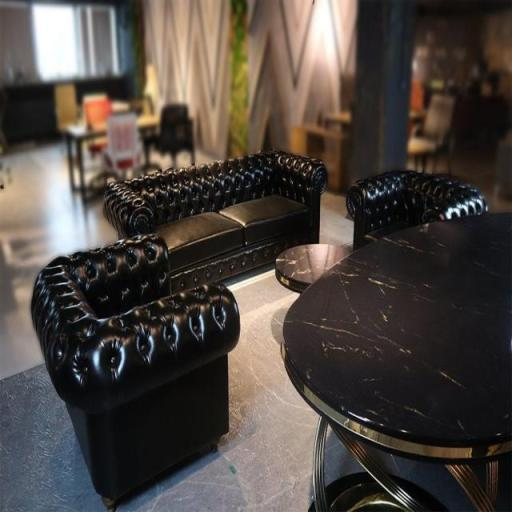sofa: (36, 235, 275, 512), (338, 170, 512, 248)
